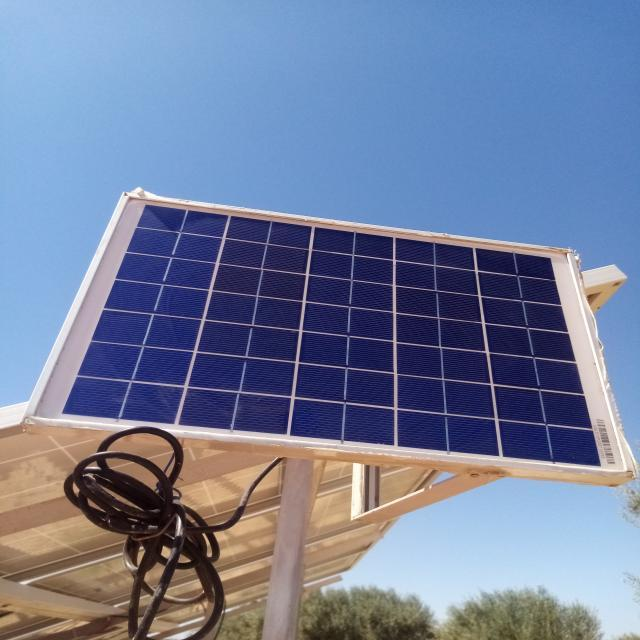no faulty: (29, 193, 632, 477)
